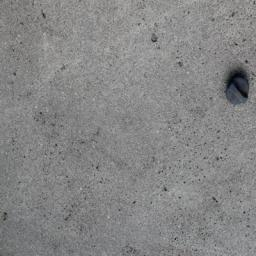FOD: (223, 73, 253, 112)
